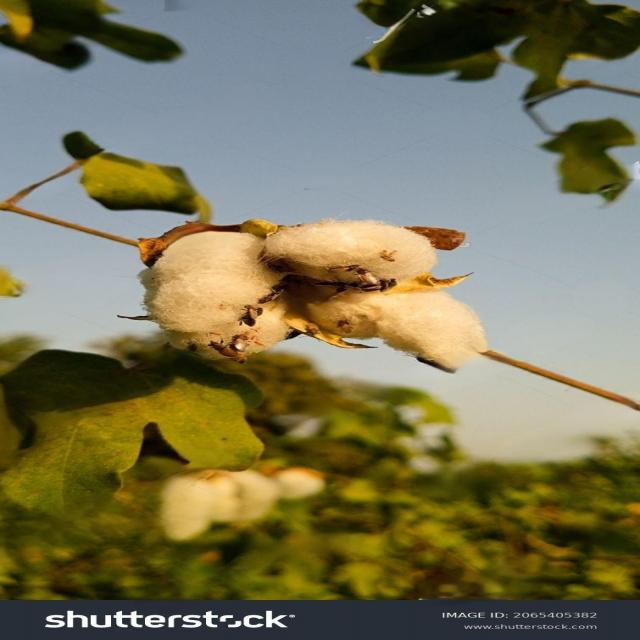Leaf: (106, 197, 505, 387), (116, 455, 339, 548)
